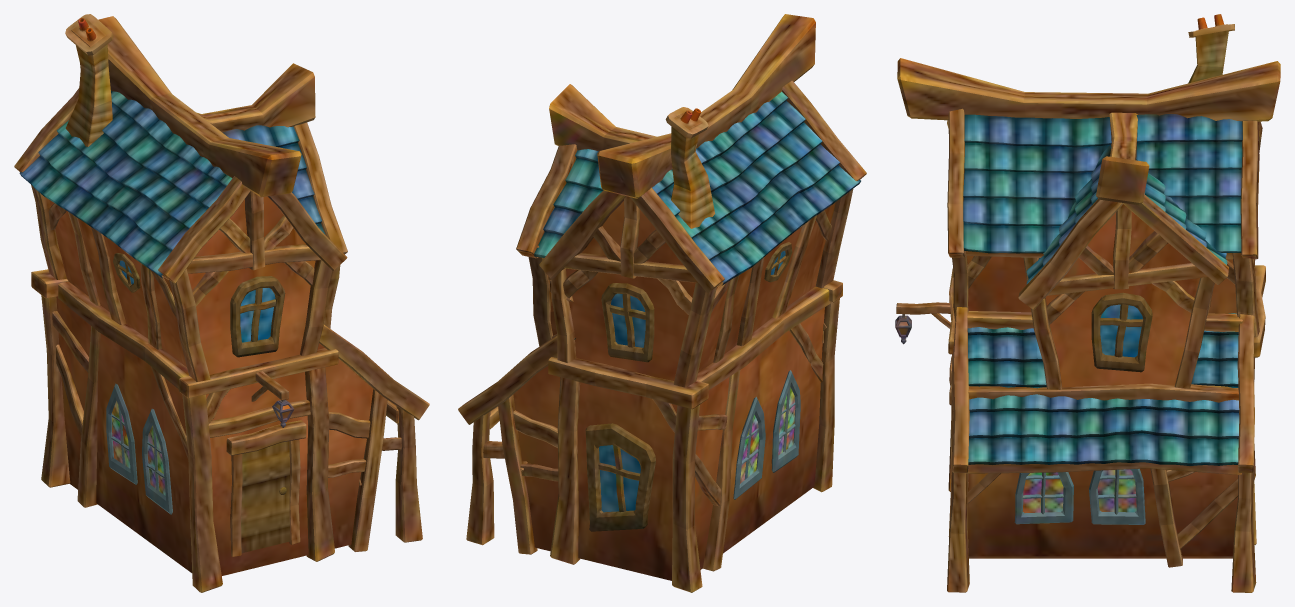
File: CrypteCouleur.glb
3 renders of one model, left to right at view 1: azimuth 30°, elevation 25°; view 2: azimuth 150°, elevation 25°; view 3: azimuth 270°, elevation 25°, orthographic. The views are drawn at different scales.
Visible parts, largest first — view 1: Crypte; view 2: Crypte; view 3: Crypte.
Part boxes in pixels (x1=…): Crypte: x1=14, y1=14, x2=429, y2=592; Crypte: x1=458, y1=14, x2=866, y2=592; Crypte: x1=895, y1=14, x2=1280, y2=592.
Bounding box in the file's own units: 6.1 × 10.24 × 7.48.
Materials: 1 (1 with a texture image).
